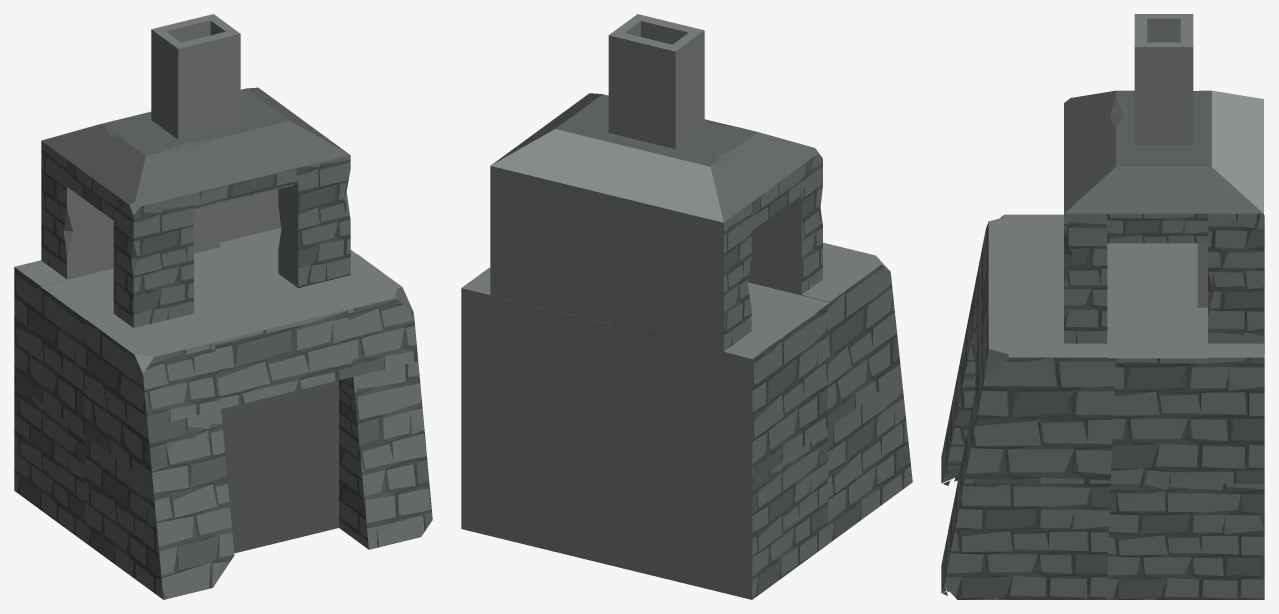
The model's file is SM_Env_Misc_09.fbx.
3 renders of one model, left to right at view 1: azimuth 30°, elevation 25°; view 2: azimuth 150°, elevation 25°; view 3: azimuth 270°, elevation 25°, orthographic. The views are drawn at different scales.
Visible parts, largest first — view 1: SM_Env_Misc_09; view 2: SM_Env_Misc_09; view 3: SM_Env_Misc_09.
Boxes of the visible parts, box(x1,y1,x2,y2) form: SM_Env_Misc_09: box(14, 14, 432, 599); SM_Env_Misc_09: box(461, 14, 912, 599); SM_Env_Misc_09: box(941, 14, 1264, 599).
Size of the model in its own units: 195 by 316 by 186.
1 material, 1 textured.
